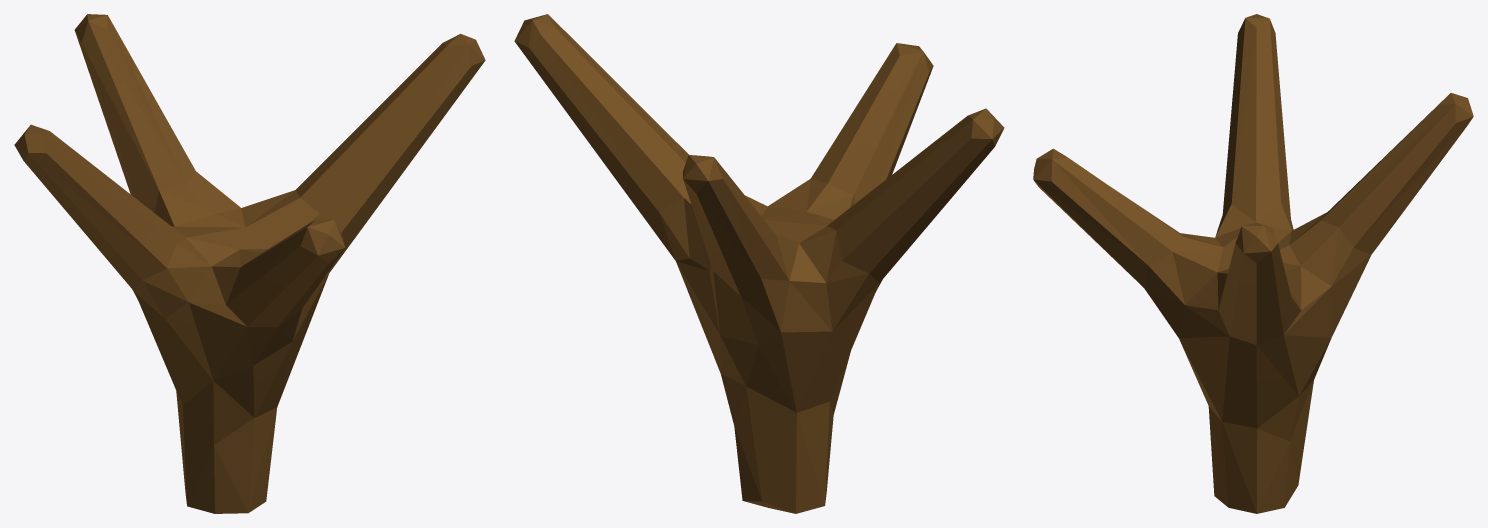
The model's file is 1Stad.fbx.
The picture shows the model from 3 angles, left to right: view 1: azimuth 30°, elevation 25°; view 2: azimuth 150°, elevation 25°; view 3: azimuth 270°, elevation 25°; orthographic projection. The views are drawn at different scales.
Visible parts, largest first — view 1: Cube.017; view 2: Cube.017; view 3: Cube.017.
Boxes of the visible parts, x1=… form: Cube.017: x1=14, y1=14, x2=485, y2=513; Cube.017: x1=514, y1=14, x2=1004, y2=513; Cube.017: x1=1033, y1=14, x2=1473, y2=513.
Bounding box in the file's own units: 47.75 × 41.22 × 42.03.
